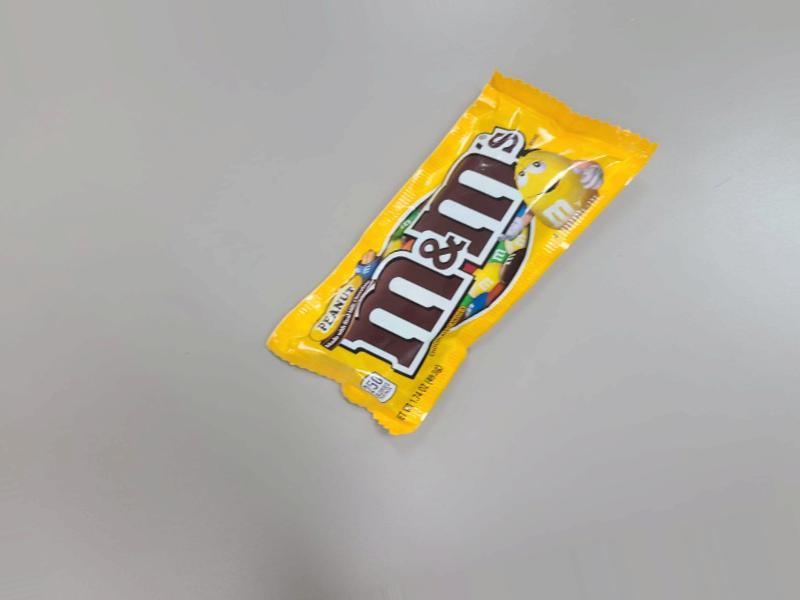m&m: (257, 59, 654, 436)
